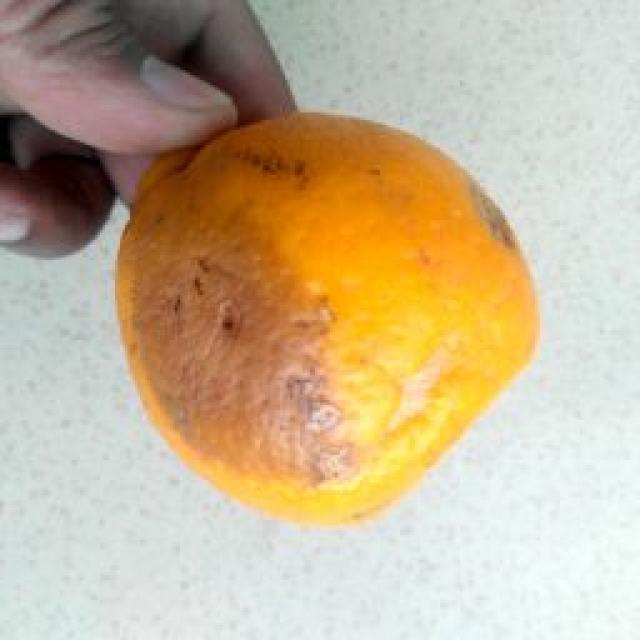Bad_Orange: (118, 114, 538, 523)
